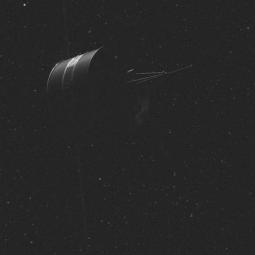double_start: (36, 44, 181, 140)
